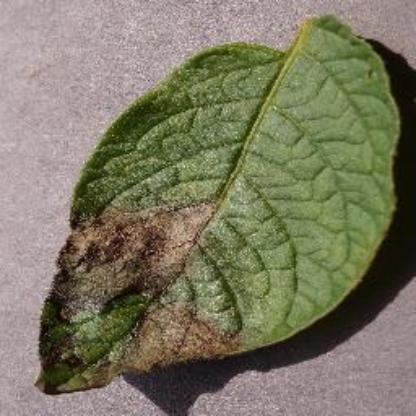Late-Blight: (29, 14, 401, 400)
